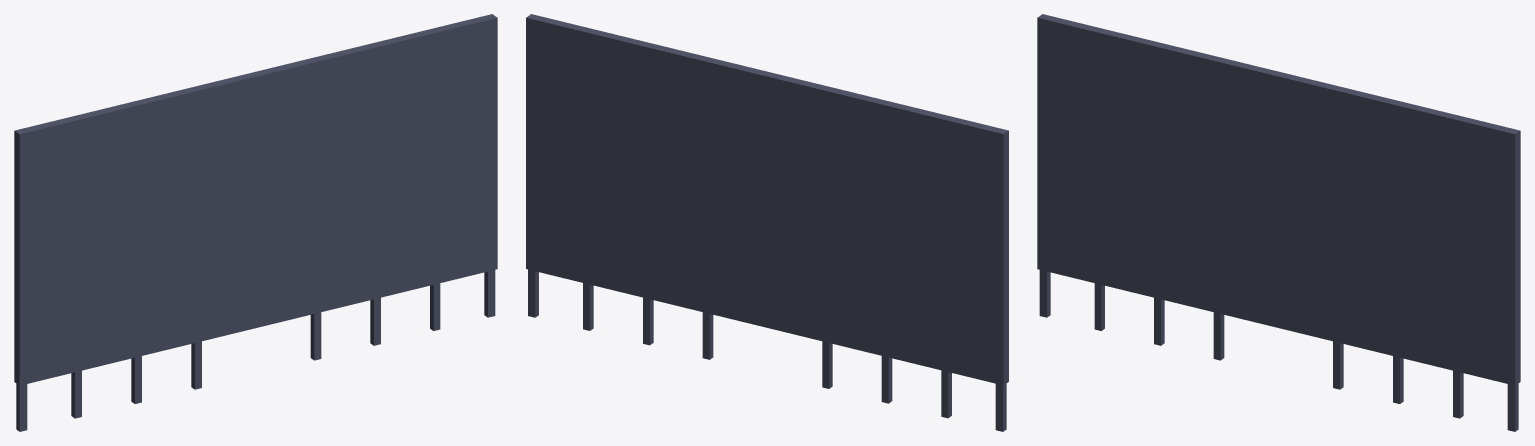
Rendered from Screen.fbx.
The picture shows the model from 3 angles, left to right: view 1: azimuth 30°, elevation 25°; view 2: azimuth 150°, elevation 25°; view 3: azimuth 330°, elevation 25°; orthographic projection.
Visible parts, largest first — view 1: model_13.005; view 2: model_13.005; view 3: model_13.005.
Part boxes in pixels (x1,y1,x2,y2): model_13.005: (14, 14, 497, 431); model_13.005: (526, 14, 1008, 431); model_13.005: (1037, 14, 1520, 431).
Size of the model in its own units: 1895 by 1132 by 35.16.
